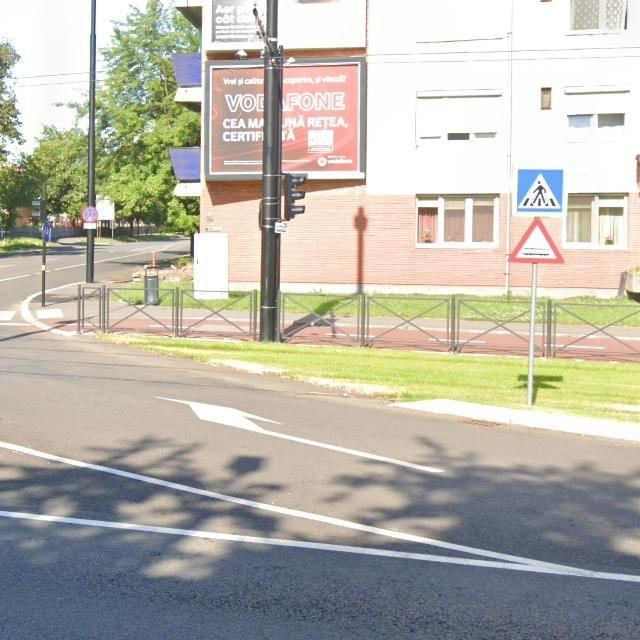forb_waiting: (82, 206, 98, 224)
warn_crosswalk: (514, 169, 565, 218)
